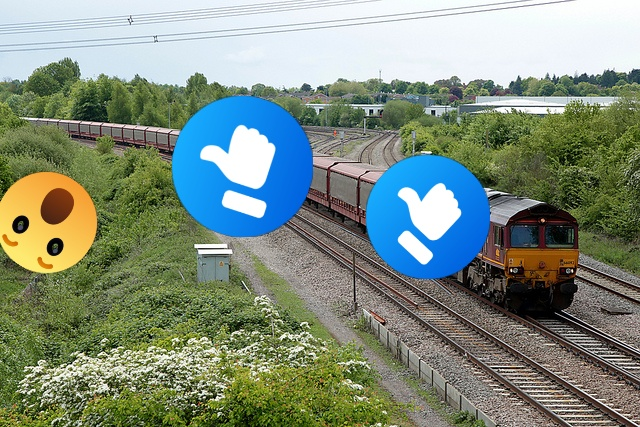like: (172, 96, 313, 237), (366, 155, 490, 279)
wow: (0, 172, 97, 273)
